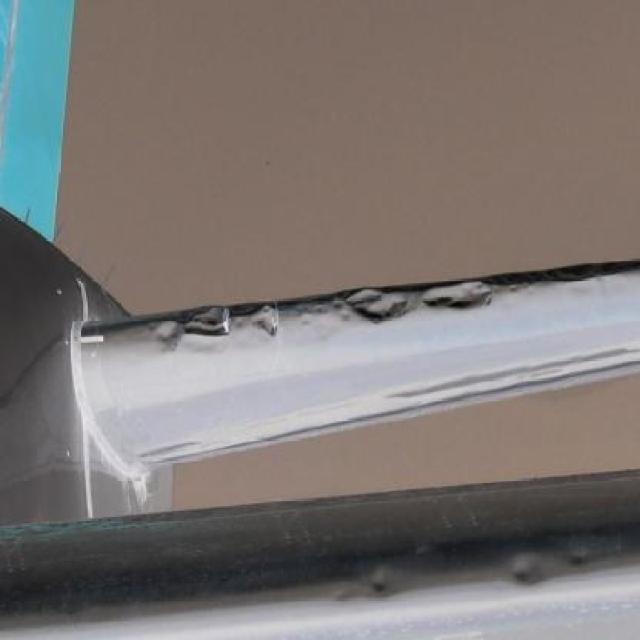dent: (340, 288, 409, 331), (422, 282, 493, 313), (497, 552, 543, 591), (185, 305, 228, 345), (146, 313, 185, 351), (363, 566, 403, 602), (251, 297, 280, 339)
